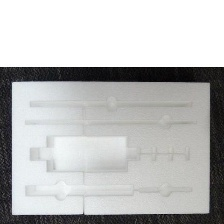foam_box: (8, 76, 214, 219)
